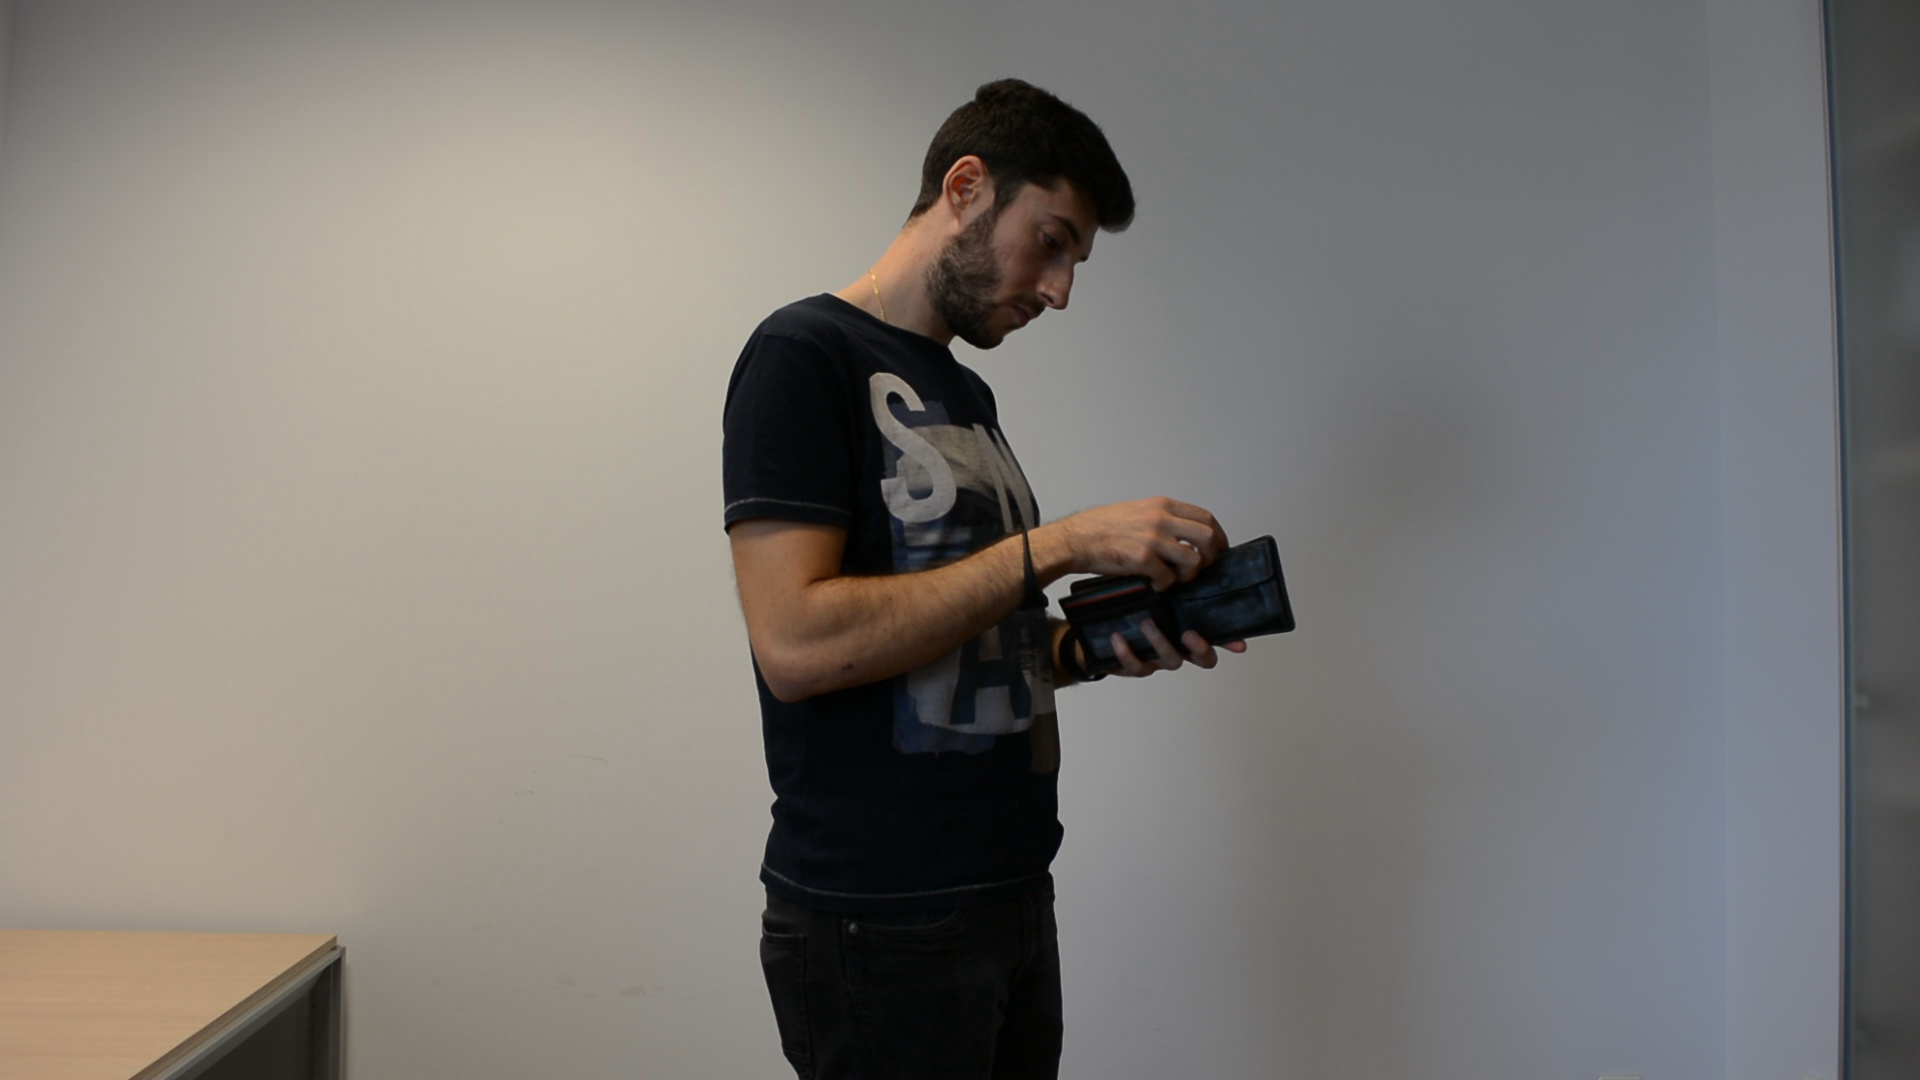monedero: (1056, 531, 1300, 678)
